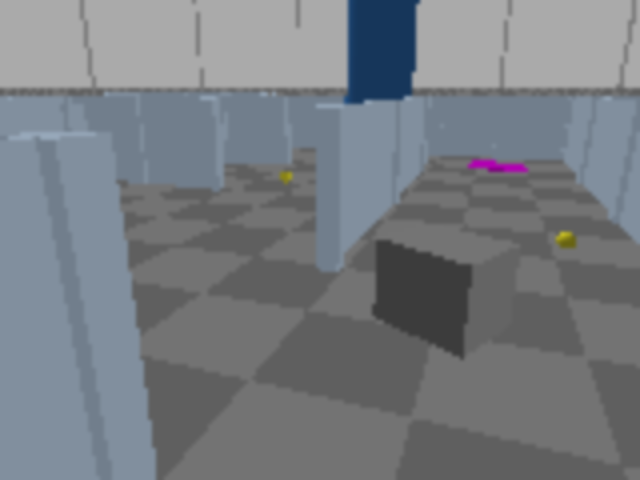goal_zone: (469, 161, 527, 172)
puck: (554, 229, 580, 252)
